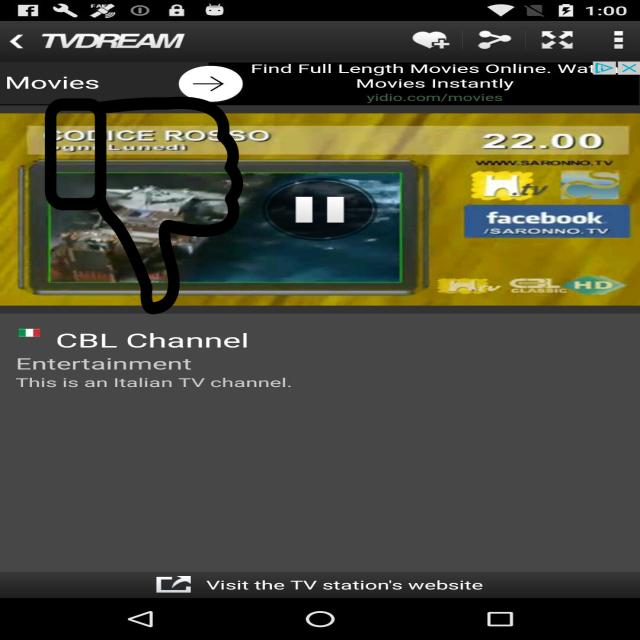obstruction: (42, 97, 246, 314)
